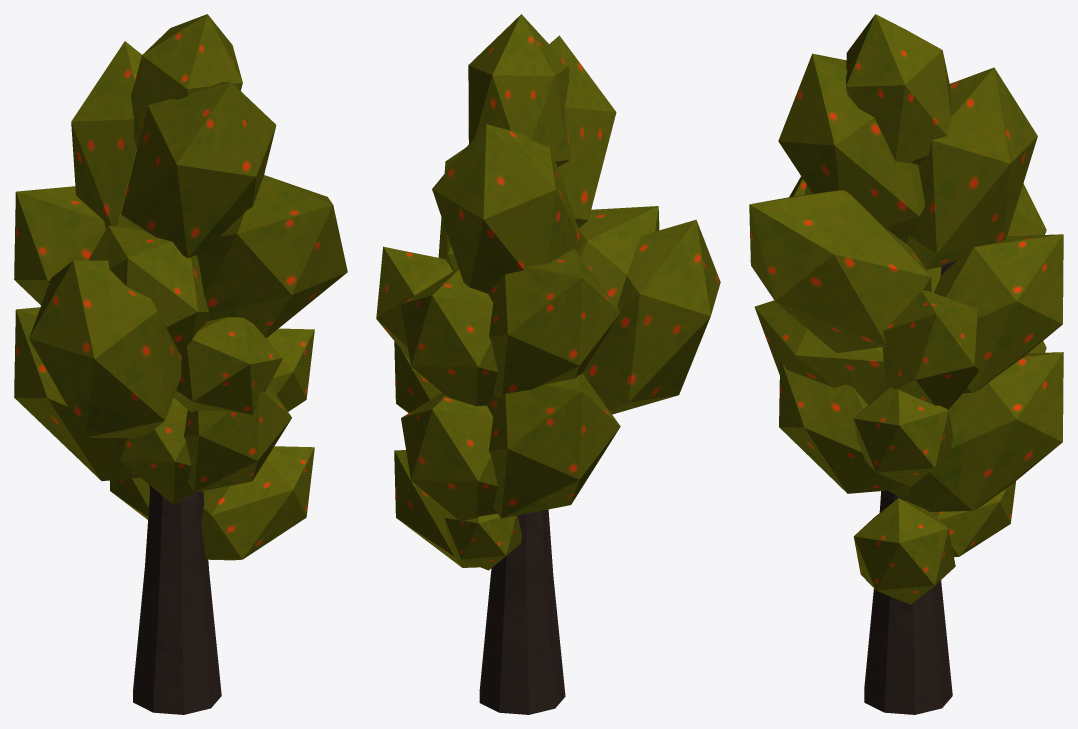
The model's file is tree-olive-green-flowers_9.fbx.
3 renders of one model, left to right at view 1: azimuth 30°, elevation 25°; view 2: azimuth 150°, elevation 25°; view 3: azimuth 270°, elevation 25°, orthographic. The views are drawn at different scales.
Visible parts, largest first — view 1: Icosphere.130; view 2: Icosphere.130; view 3: Icosphere.130.
Part boxes in pixels (x1,y1,x2,y2): Icosphere.130: (14,14,347,714); Icosphere.130: (376,14,720,714); Icosphere.130: (749,14,1063,714).
Bounding box in the file's own units: 180 × 387 × 160.
